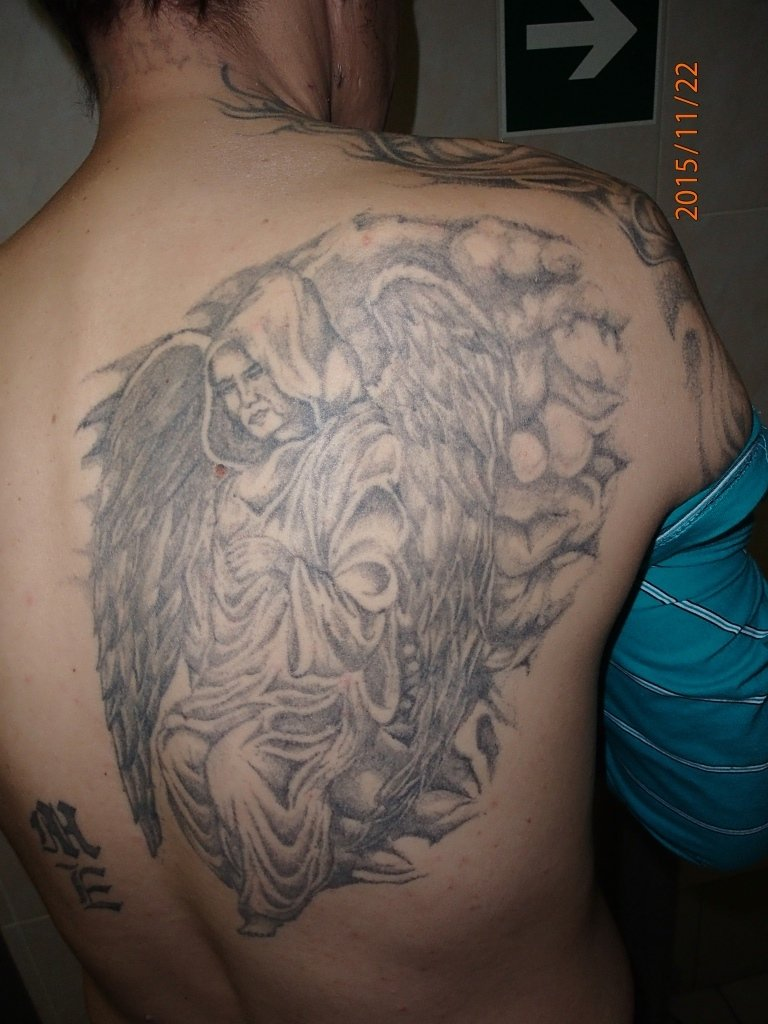tatu1_angel: (106, 261, 515, 921)
tatu3_bukva: (26, 795, 207, 944)
